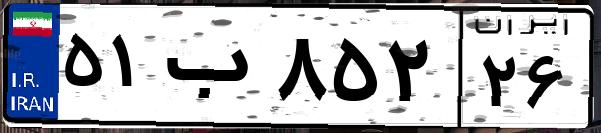1: (110, 28, 158, 98)
2: (385, 28, 445, 110), (475, 38, 525, 113)
5: (330, 28, 385, 110), (57, 26, 110, 100)
6: (525, 38, 570, 115)
8: (270, 28, 330, 110)
ب: (158, 20, 270, 120)
